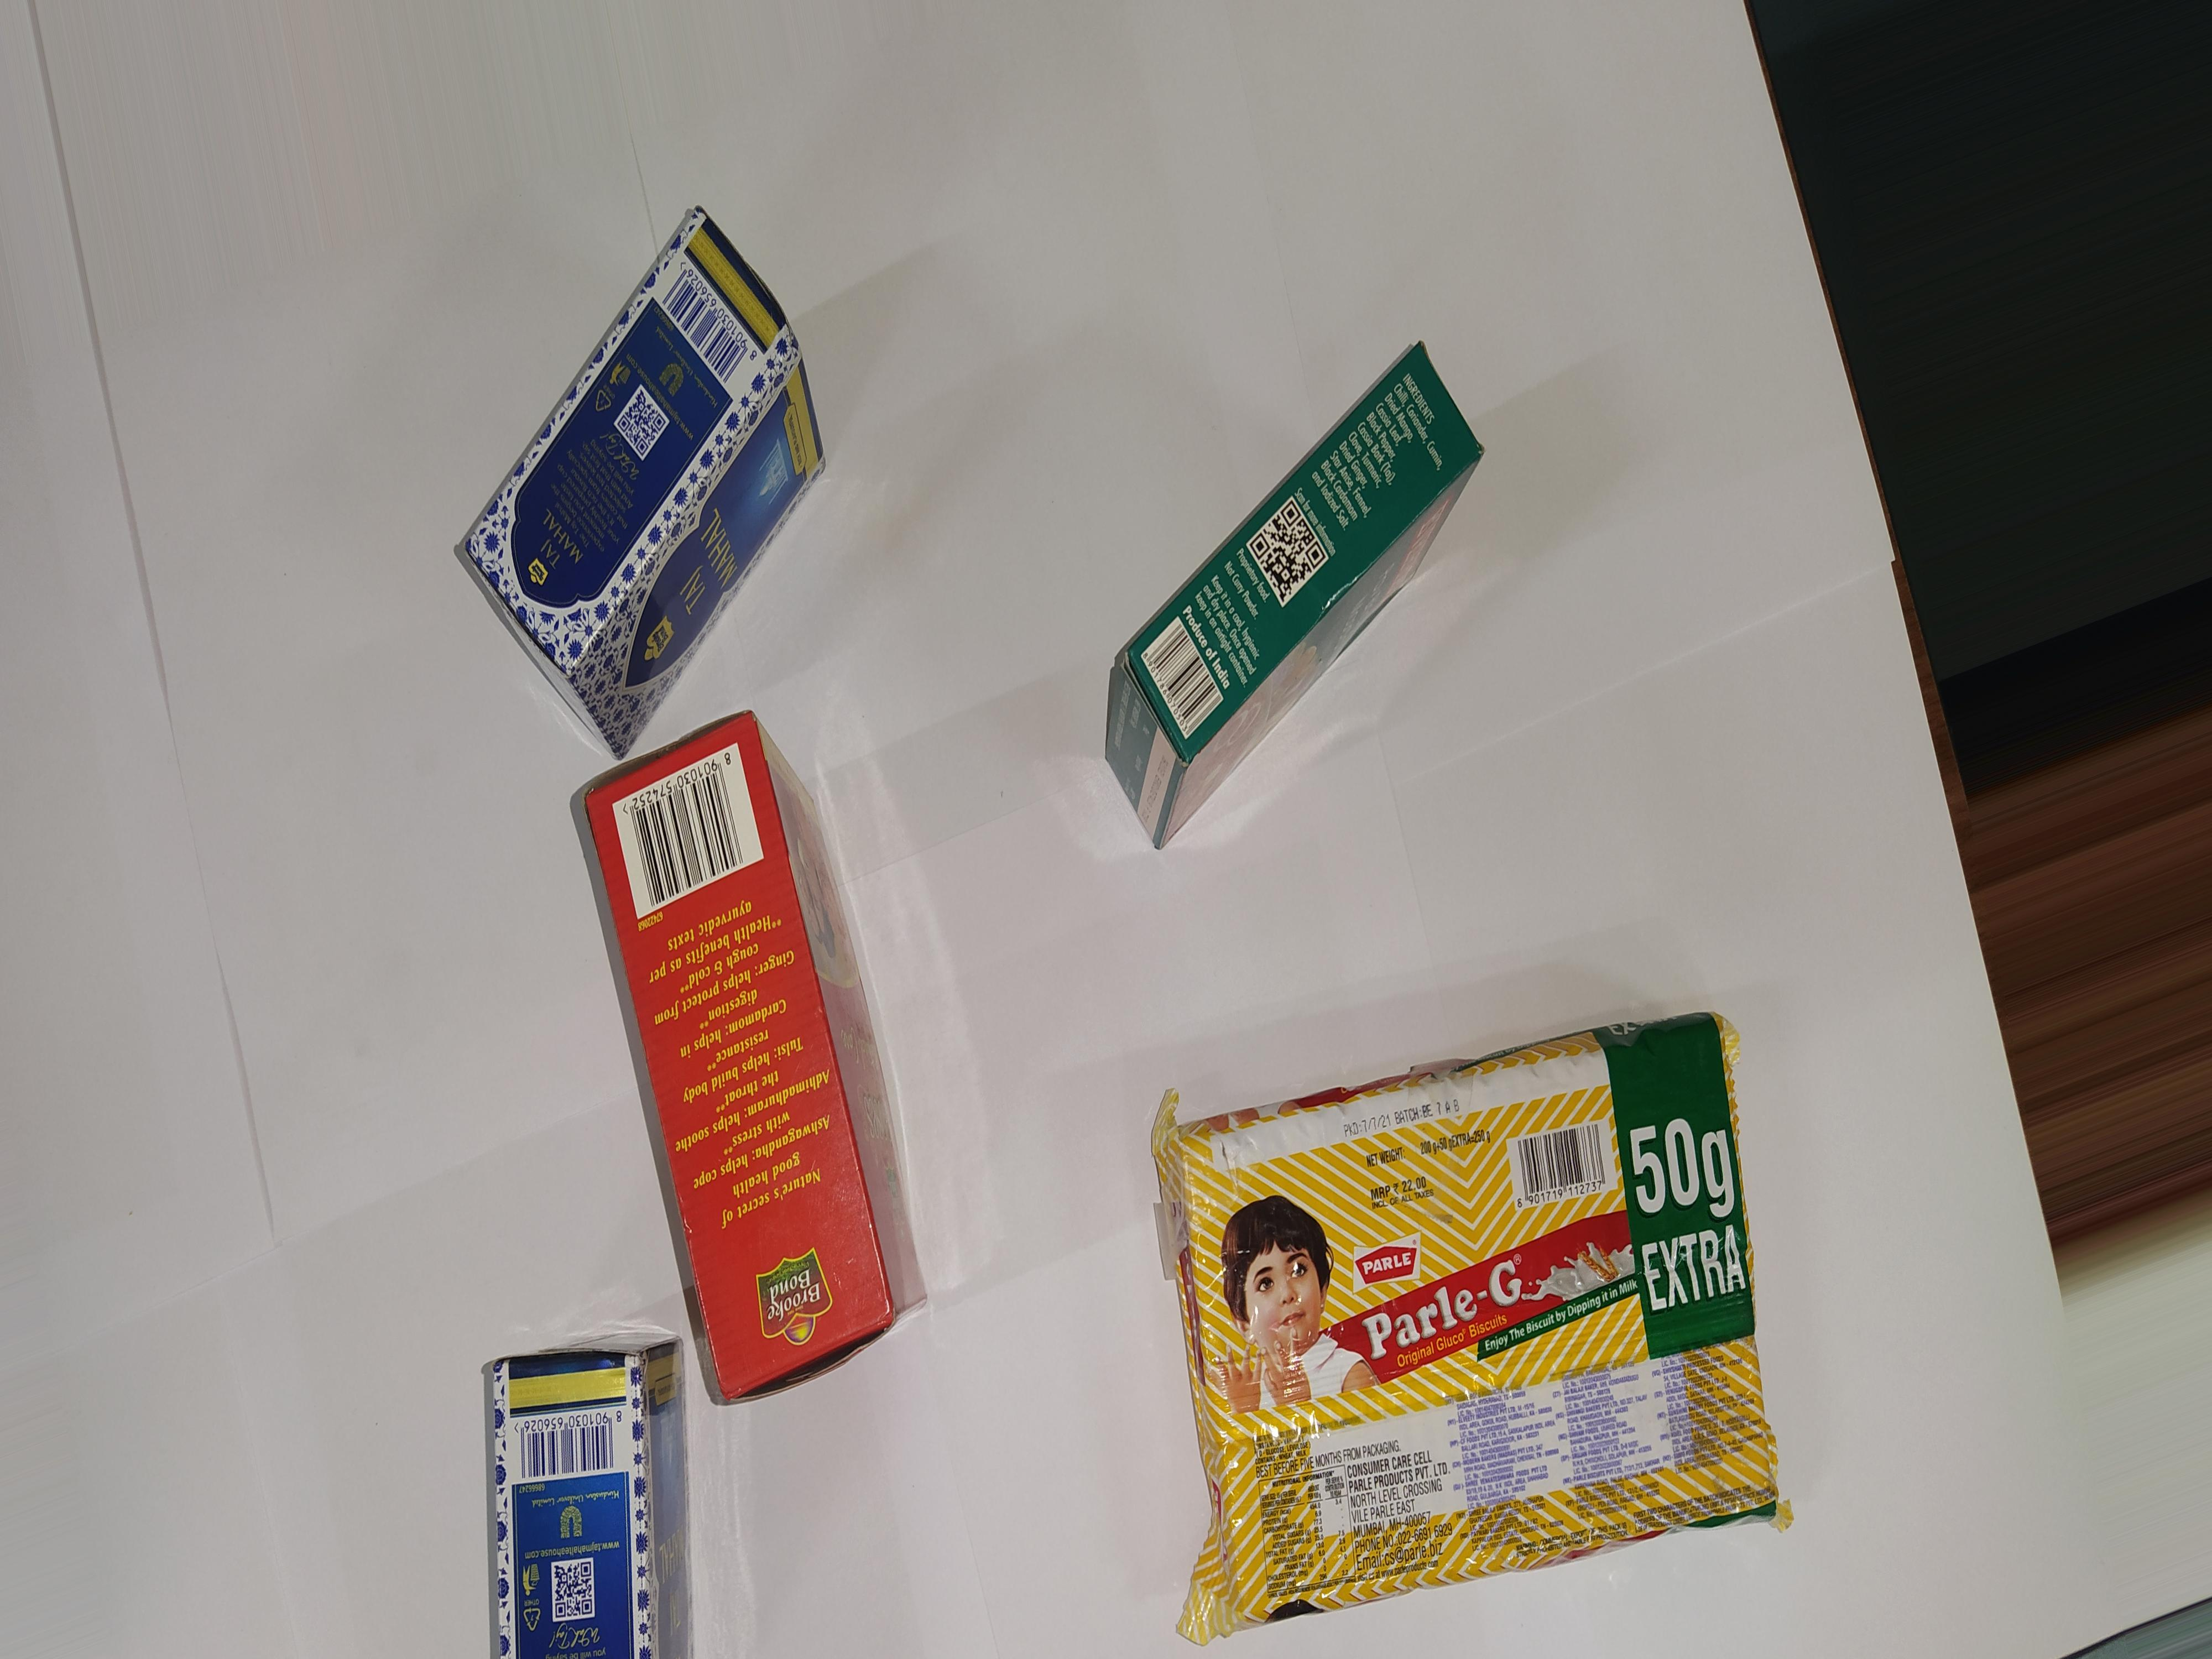Bar_code: (589, 756, 787, 918), (653, 263, 784, 410), (1127, 610, 1251, 744), (498, 1394, 648, 1486), (1510, 1122, 1637, 1222)
Item: (1092, 967, 1895, 1619), (529, 720, 1019, 1405), (1047, 286, 1526, 885), (420, 192, 881, 758), (411, 1290, 782, 1659)
QR_code: (1247, 497, 1325, 612), (610, 383, 678, 458), (549, 1554, 604, 1638)
